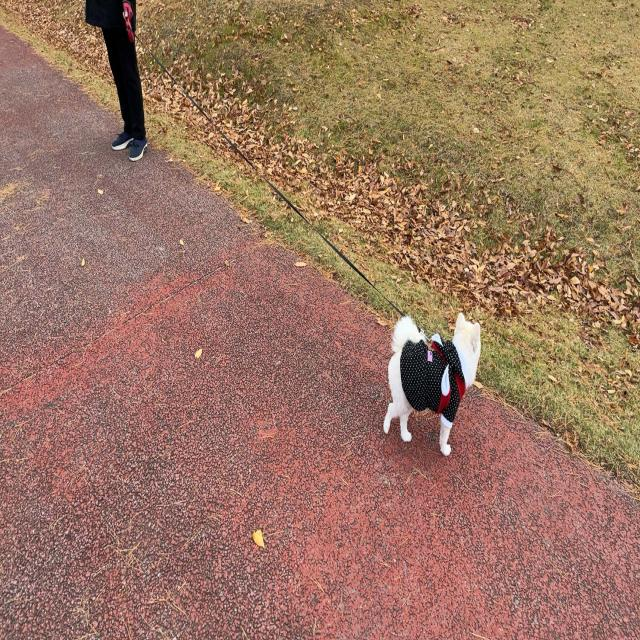Leashed_Dog: (112, 0, 481, 455)
